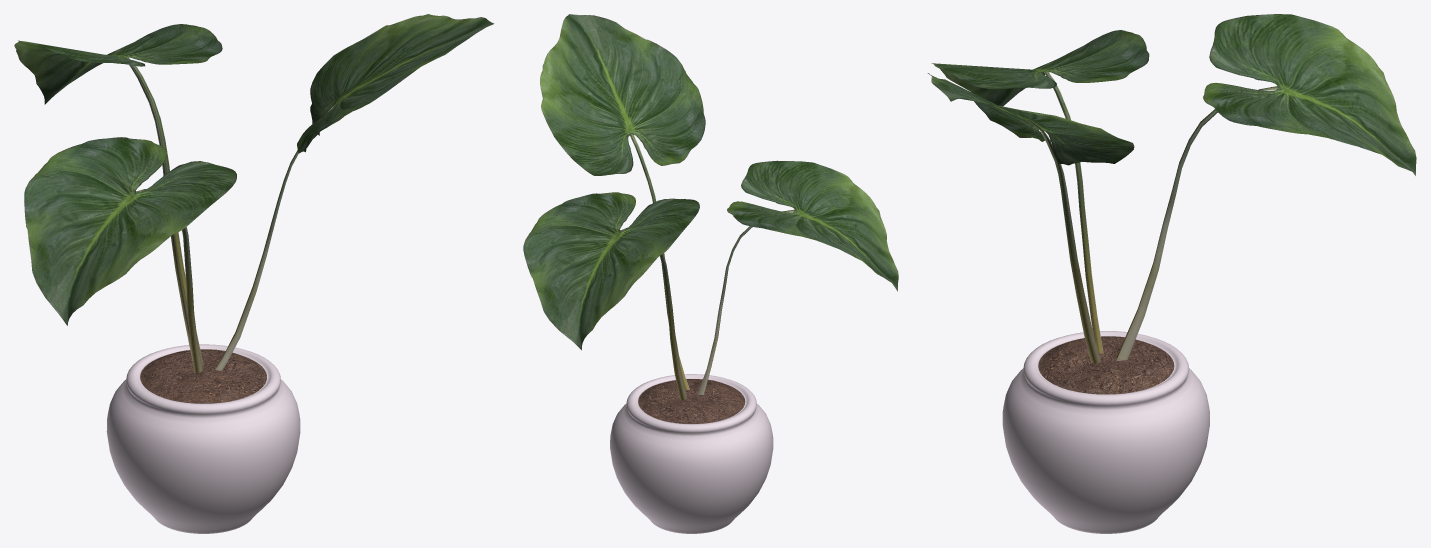
The model's file is flowerPalm.glb.
The picture shows the model from 3 angles, left to right: view 1: azimuth 30°, elevation 25°; view 2: azimuth 150°, elevation 25°; view 3: azimuth 270°, elevation 25°; orthographic projection. The views are drawn at different scales.
Visible parts, largest first — view 1: Cylinder, Plane.002, Plane.001, Plane; view 2: Cylinder, Plane.001, Plane, Plane.002; view 3: Cylinder, Plane, Plane.002, Plane.001.
Part boxes in pixels (x1,y1,x2,y2): Cylinder: (106, 344, 300, 533); Plane.002: (24, 137, 236, 373); Plane.001: (215, 14, 494, 370); Plane: (14, 24, 222, 365); Cylinder: (610, 374, 773, 533); Plane.001: (540, 14, 705, 389); Plane: (523, 192, 699, 400); Plane.002: (697, 160, 898, 395); Cylinder: (1002, 331, 1209, 533); Plane: (1116, 14, 1416, 361); Plane.002: (931, 30, 1149, 353); Plane.001: (927, 73, 1134, 363).
Bounding box in the file's own units: 0.9602 × 1.08 × 0.906.
Materials: 3 (2 with a texture image).
